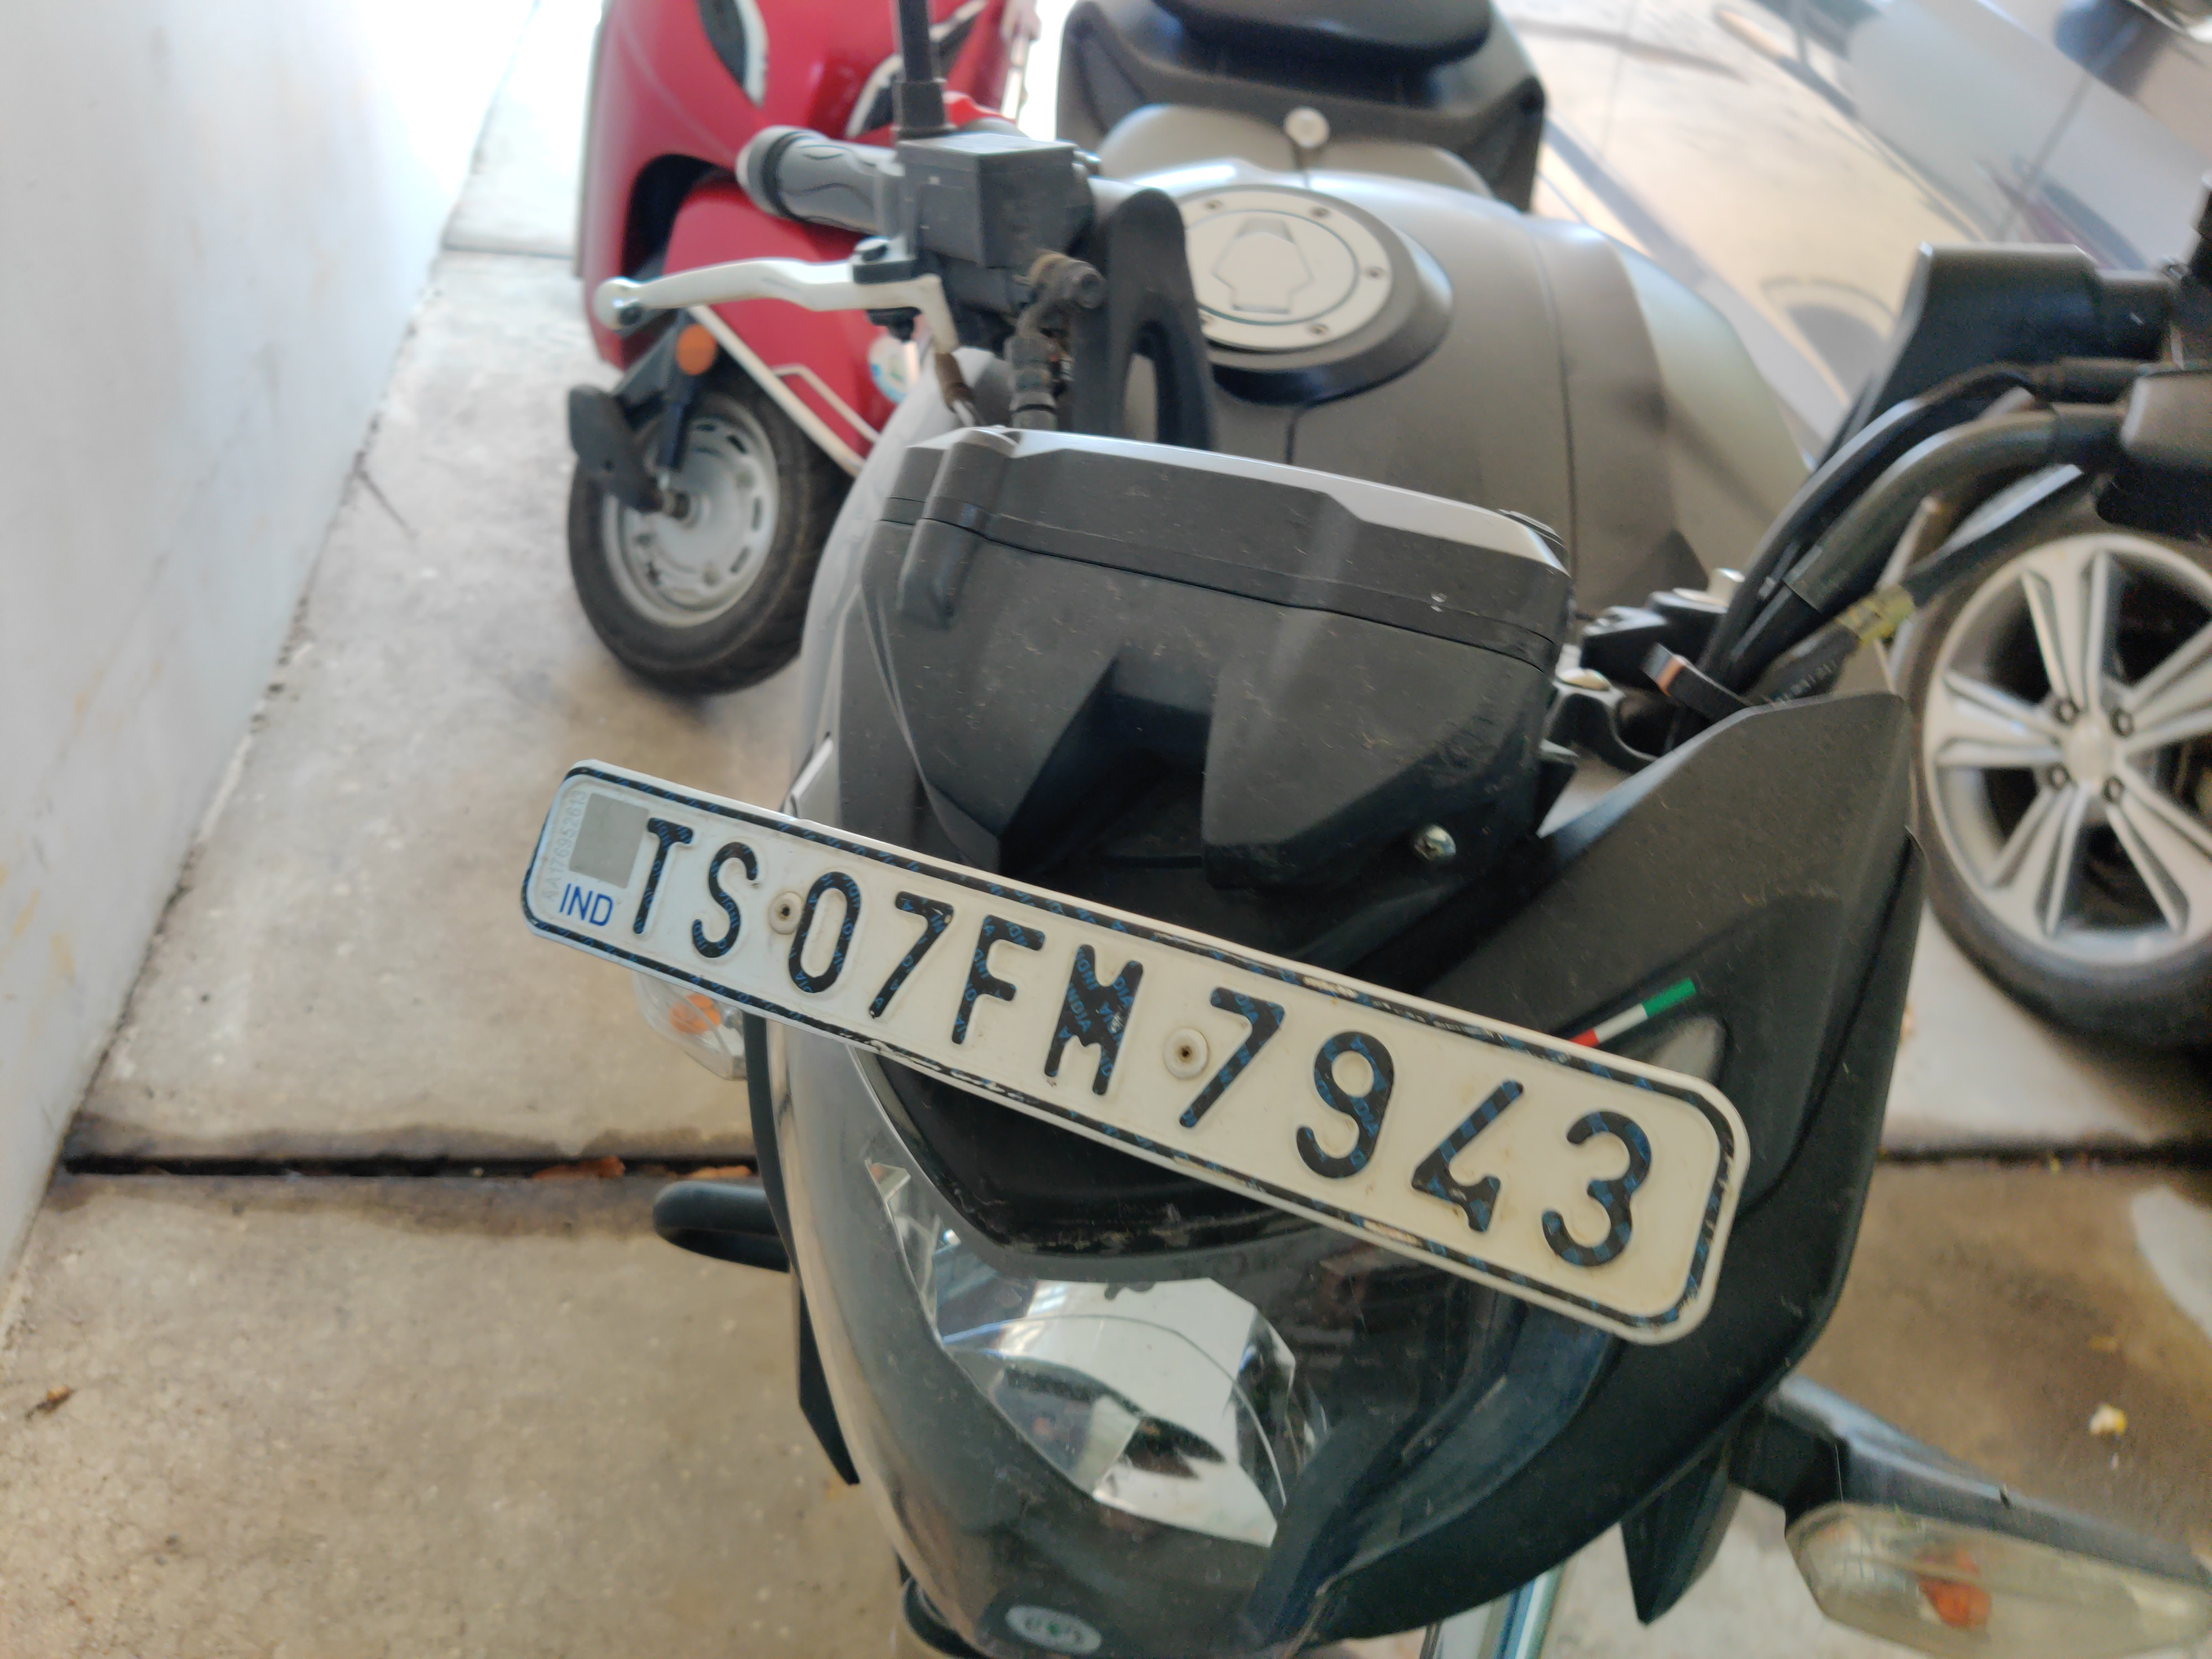plate: (507, 730, 1751, 1403)
